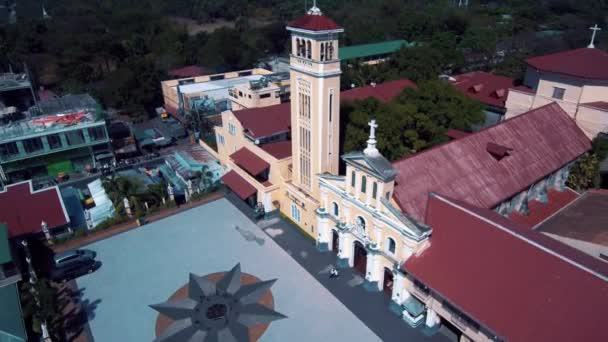manaoag_church_manaoag_pangasinan: (283, 1, 422, 309)
